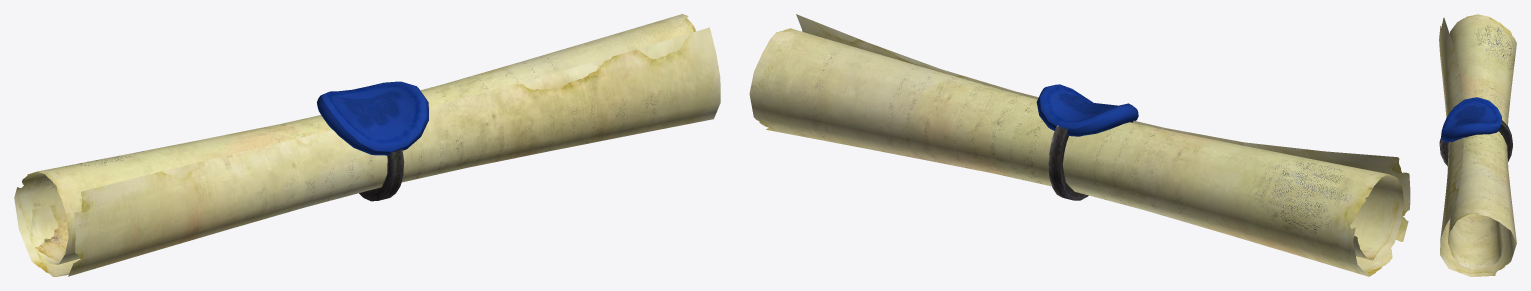
Rendered from scroll_enchant.glb.
3 views of the same model, side by side, from view 1: azimuth 30°, elevation 25°; view 2: azimuth 150°, elevation 25°; view 3: azimuth 270°, elevation 25° (orthographic). The views are drawn at different scales.
Parts seen in each view (by area): view 1: Scroll_LP; view 2: Scroll_LP; view 3: Scroll_LP.
Part boxes in pixels (left/top/right/bottom): Scroll_LP: left=14, top=14, right=720, bottom=276; Scroll_LP: left=749, top=14, right=1410, bottom=276; Scroll_LP: left=1439, top=14, right=1516, bottom=276.
Bounding box in the file's own units: 0.5 × 0.0786 × 0.0823.
Materials: 1 (1 with a texture image).
